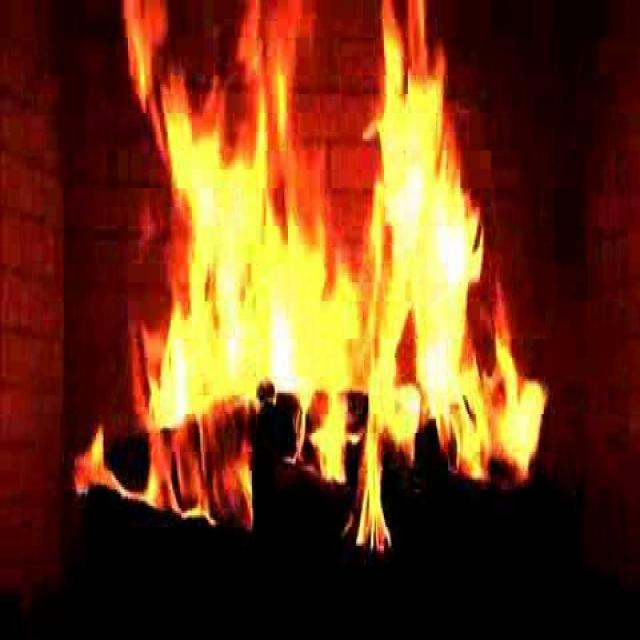fire: (109, 0, 535, 514)
